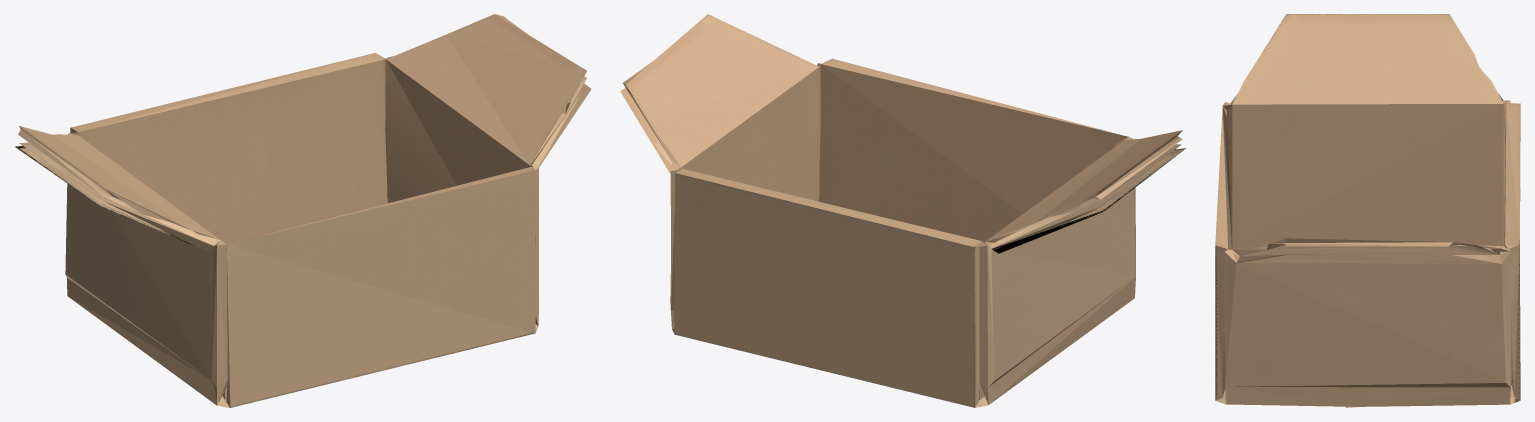
File: IT_Trash_CollapsedCardboardBox.fbx
3 views of the same model, side by side, from view 1: azimuth 30°, elevation 25°; view 2: azimuth 150°, elevation 25°; view 3: azimuth 270°, elevation 25° (orthographic). The views are drawn at different scales.
Parts seen in each view (by area): view 1: Mesh_0; view 2: Mesh_0; view 3: Mesh_0.
Part boxes in pixels (left/top/right/bottom): Mesh_0: left=15, top=14, right=591, bottom=407; Mesh_0: left=620, top=14, right=1186, bottom=407; Mesh_0: left=1215, top=14, right=1520, bottom=407.
Size of the model in its own units: 190 by 81.58 by 107.
Materials: 1 (1 with a texture image).
